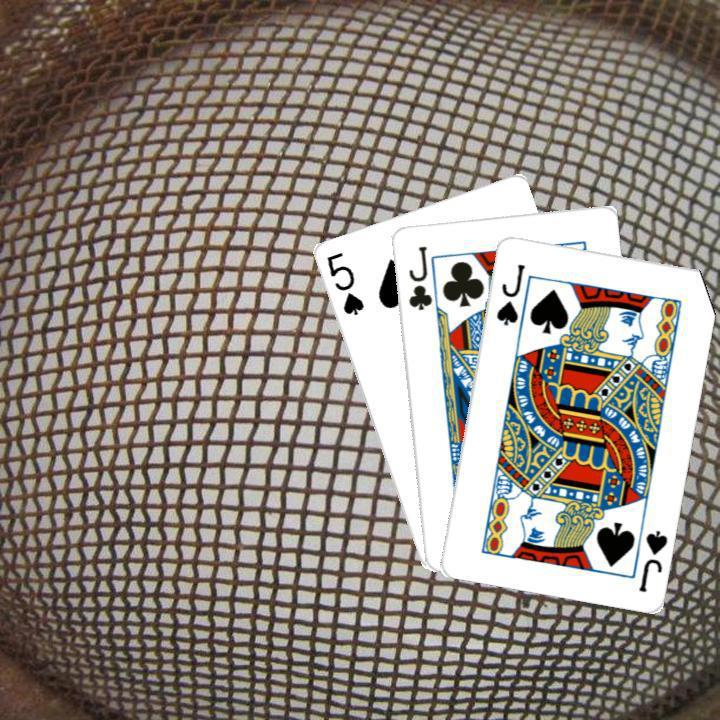5: (321, 247, 366, 317)
J: (491, 259, 526, 327), (634, 526, 669, 594), (403, 241, 434, 312)
